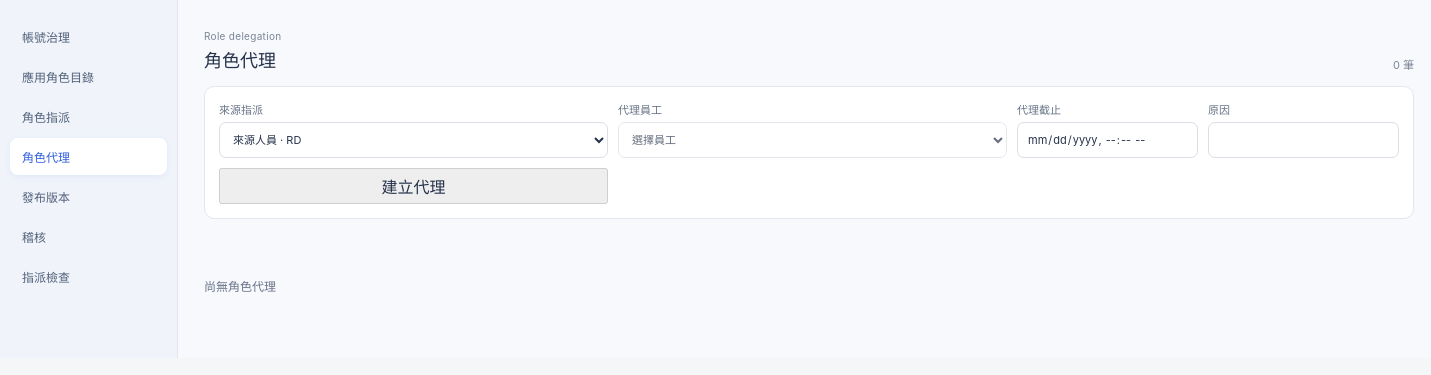
Test: offers only a current active delegable role assignment from an active employee
Expected: the dropdown labelled "代理員工" is disabled, [618, 122, 1007, 158]
Select "來源人員 · RD" in the dropdown labelled "來源指派" at (414, 140), box [219, 122, 608, 158]
Select "來源人員 · RD" in the dropdown labelled "來源指派" at (414, 140), box [219, 122, 608, 158]
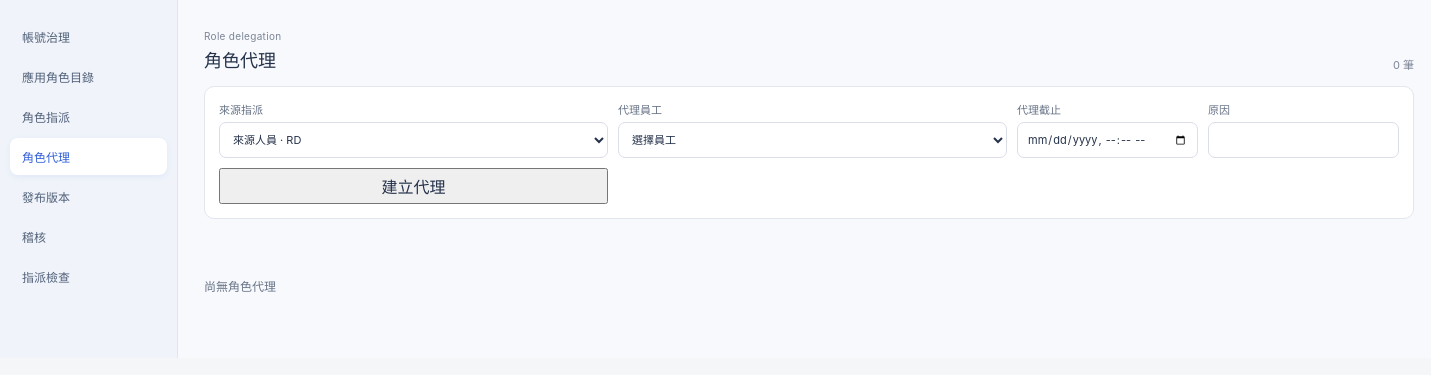
Expected: the dropdown labelled "代理員工" is enabled, [618, 122, 1007, 158]
